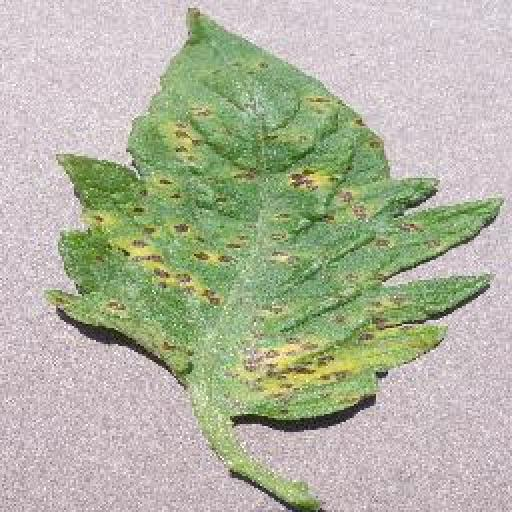disease_tomato: (46, 6, 506, 420)
